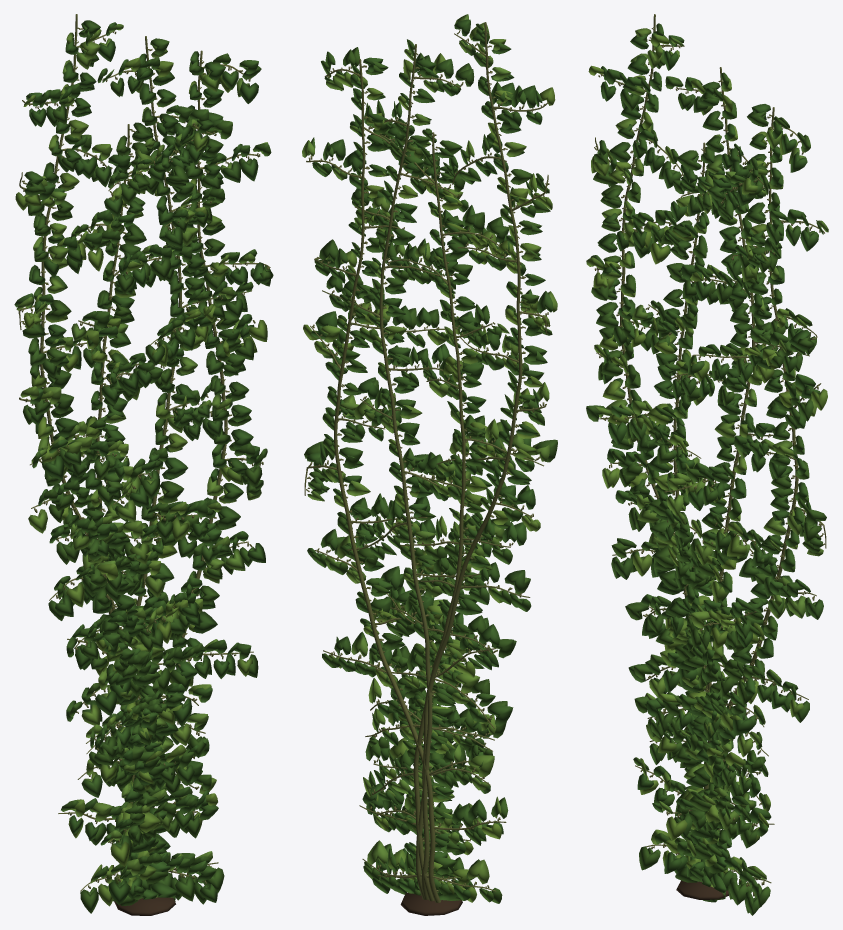
The model's file is climber_ivy_55.glb.
3 views of the same model, side by side, from view 1: azimuth 30°, elevation 25°; view 2: azimuth 150°, elevation 25°; view 3: azimuth 330°, elevation 25° (orthographic). The views are drawn at different scales.
Parts seen in each view (by area): view 1: Sammel Pflanze, Sammel Putz; view 2: Sammel Pflanze, Sammel Putz; view 3: Sammel Pflanze, Sammel Putz.
Boxes of the visible parts, x1=… form: Sammel Pflanze: x1=14, y1=20, x2=273, y2=913; Sammel Putz: x1=18, y1=14, x2=270, y2=915; Sammel Pflanze: x1=302, y1=14, x2=557, y2=903; Sammel Putz: x1=304, y1=22, x2=549, y2=915; Sammel Pflanze: x1=586, y1=23, x2=828, y2=915; Sammel Putz: x1=594, y1=14, x2=826, y2=899.
Size of the model in its own units: 1.59 by 5.44 by 0.3228.
